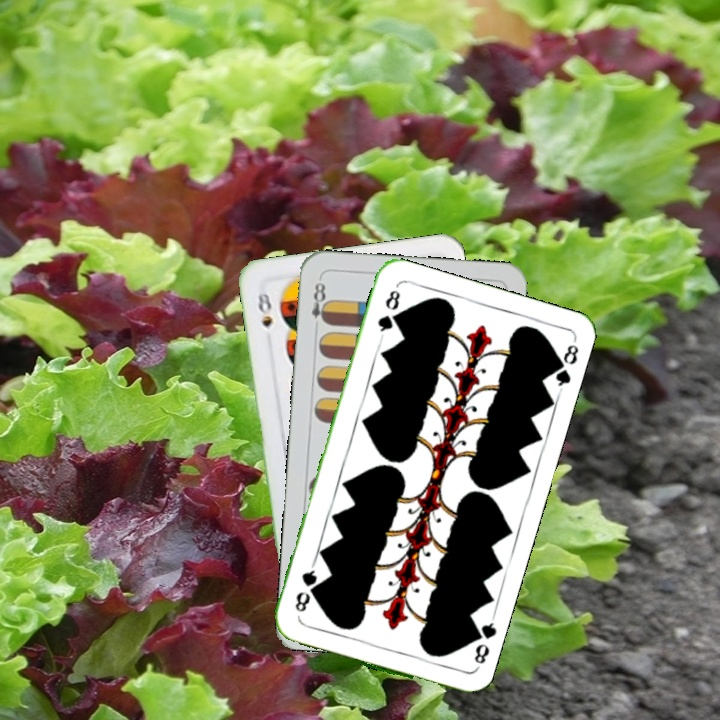E8: (307, 275, 331, 334)
G8: (466, 615, 499, 673), (373, 285, 403, 341)
S8: (254, 289, 275, 331)
